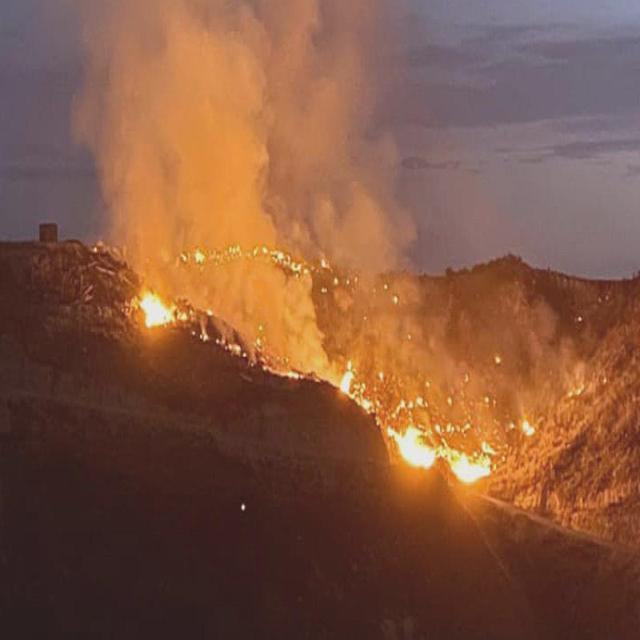Fire: (389, 397, 497, 486), (137, 291, 190, 332), (254, 244, 312, 277), (341, 368, 374, 413), (267, 364, 300, 381), (226, 243, 244, 259), (568, 383, 584, 401), (522, 417, 535, 435), (193, 245, 204, 266), (197, 327, 209, 342), (230, 342, 242, 355), (319, 256, 332, 267), (180, 249, 187, 263), (494, 355, 499, 364)
